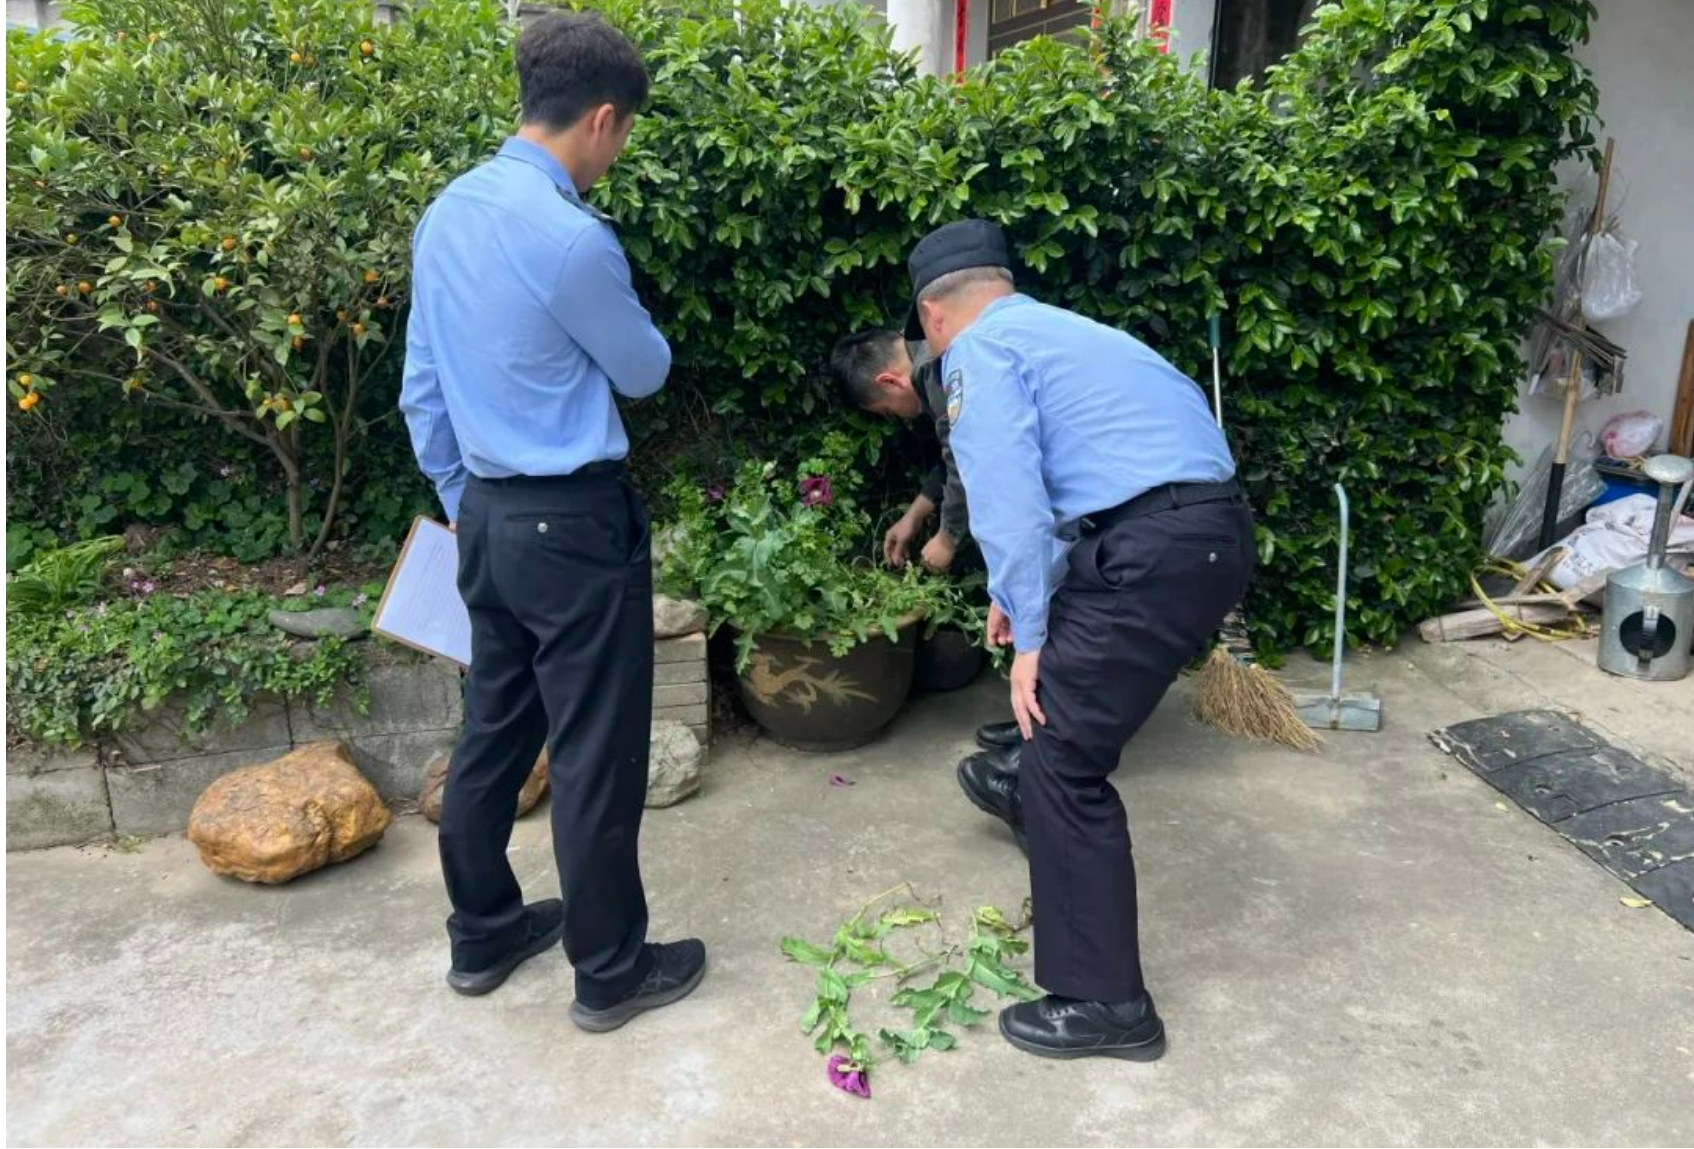Poppy: (776, 860, 1035, 1107), (678, 457, 955, 655)
